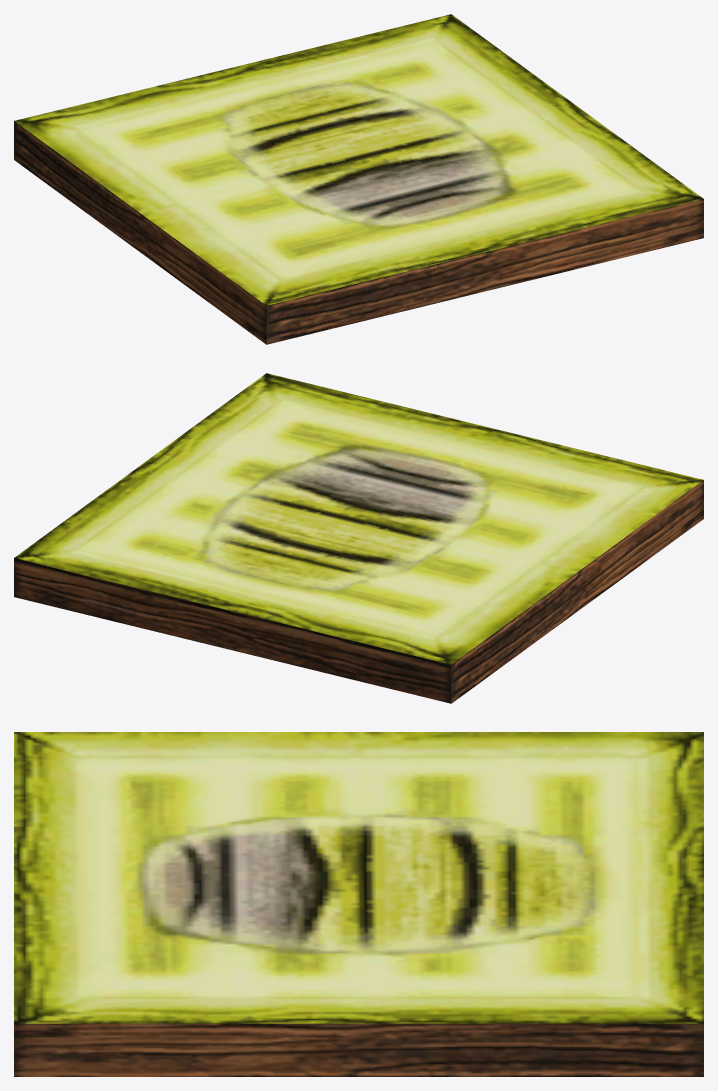
Rendered from INST_LT_PPLATEMED_ON.fbx.
3 renders of one model, top to bottom at view 1: azimuth 30°, elevation 25°; view 2: azimuth 150°, elevation 25°; view 3: azimuth 270°, elevation 25°, orthographic. The views are drawn at different scales.
Visible parts, largest first — view 1: INST_LT_PPLATEMED_ON; view 2: INST_LT_PPLATEMED_ON; view 3: INST_LT_PPLATEMED_ON.
Boxes of the visible parts, x1,y1,x2,y2 form: INST_LT_PPLATEMED_ON: (14, 14, 703, 344); INST_LT_PPLATEMED_ON: (14, 373, 703, 703); INST_LT_PPLATEMED_ON: (14, 732, 703, 1076).
Bounding box in the file's own units: 20000 × 1705 × 20000.
Materials: 2 (2 with a texture image).
